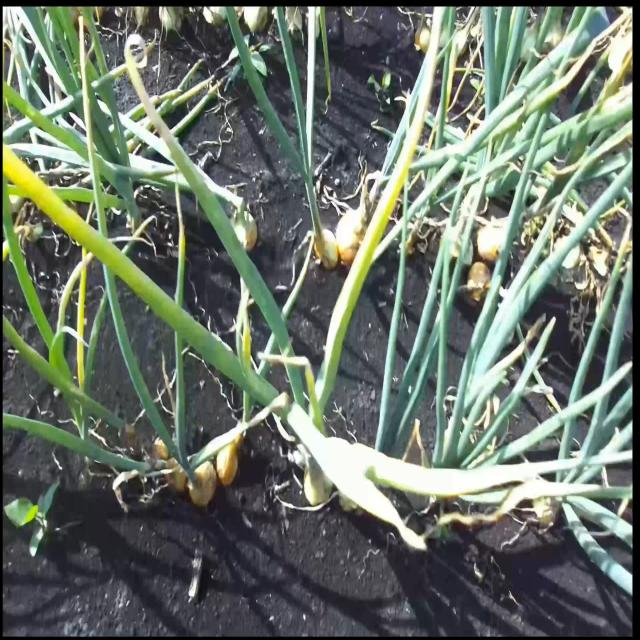onion: (302, 453, 336, 504), (476, 218, 509, 270), (337, 212, 367, 267), (464, 256, 494, 308), (532, 474, 560, 528), (228, 204, 257, 253), (188, 460, 215, 507), (215, 442, 241, 489), (164, 454, 189, 500), (314, 230, 338, 272), (152, 438, 168, 468)
